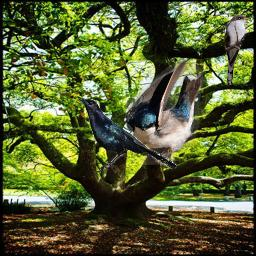Crow: (78, 98, 177, 174)
Cuckoo: (224, 14, 251, 85)
Swallow: (125, 59, 204, 165)
